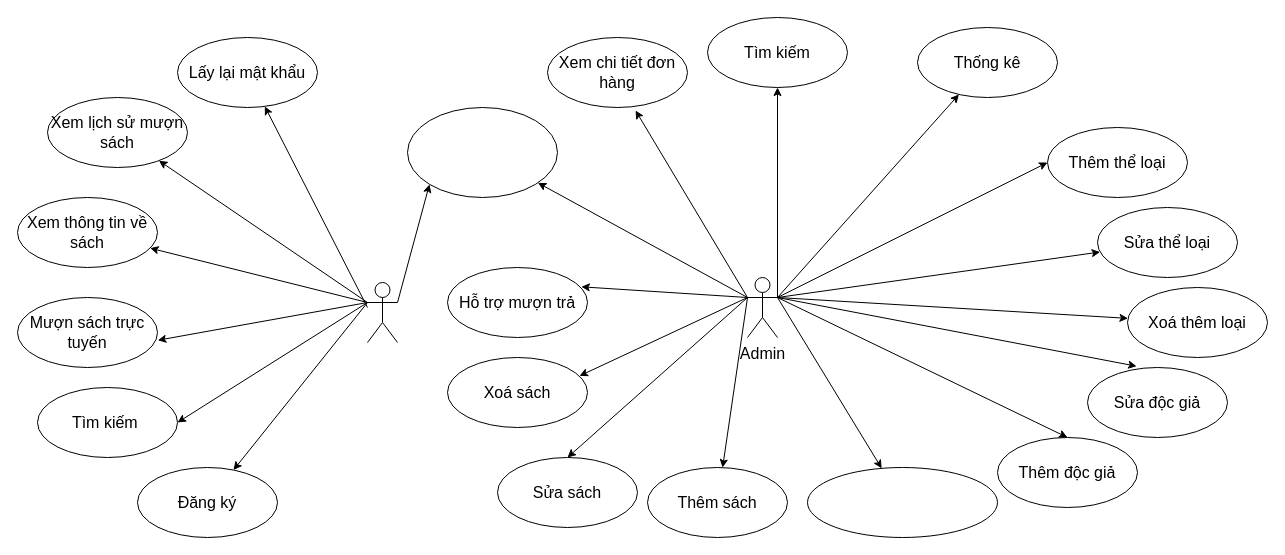
Some shapes in this 1285 by 555 pixel diagram are drawn without their labels. The shapes that lost their labels are listed below. From the top down, each one's centre as x and y in pixels, then its label:
At (x=482, y=152): "Đăng nhập".
At (x=382, y=312): "Độc giả".
At (x=902, y=502): "Xoá độc giả không đủ điều kiện mượn".
